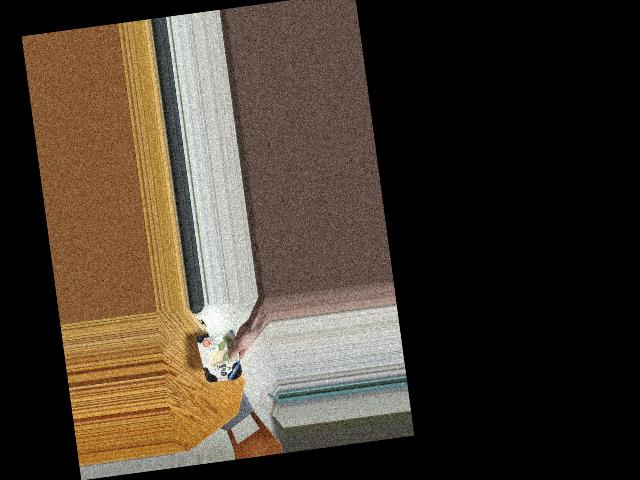cheese: (195, 321, 242, 392)
